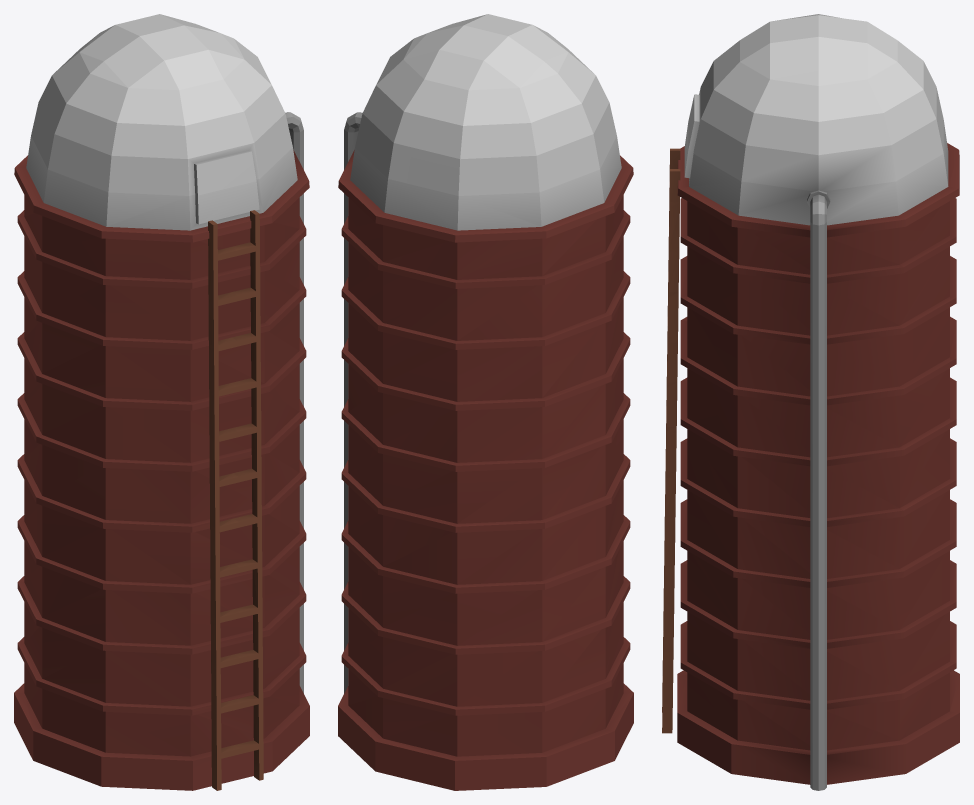
The model's file is silo.glb.
3 views of the same model, side by side, from view 1: azimuth 30°, elevation 25°; view 2: azimuth 150°, elevation 25°; view 3: azimuth 270°, elevation 25° (orthographic).
Parts seen in each view (by area): view 1: Silo_Cylinder.007; view 2: Silo_Cylinder.007; view 3: Silo_Cylinder.007.
Part boxes in pixels (bbox=[...]): Silo_Cylinder.007: bbox=[14, 14, 309, 790]; Silo_Cylinder.007: bbox=[338, 14, 633, 790]; Silo_Cylinder.007: bbox=[662, 14, 959, 790].
Size of the model in its own units: 3.67 by 9.07 by 3.51.
